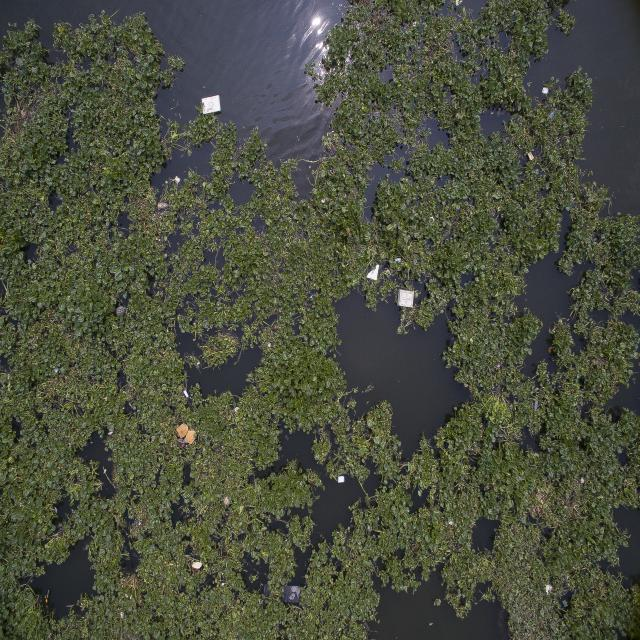debris: (268, 585, 302, 603), (200, 94, 222, 118), (176, 421, 195, 445), (396, 288, 416, 308), (367, 263, 382, 280), (189, 558, 206, 571), (172, 172, 183, 188), (42, 588, 53, 604), (113, 304, 126, 317), (220, 494, 232, 506), (544, 581, 554, 595), (561, 598, 572, 610), (426, 213, 436, 226), (317, 195, 327, 207), (541, 83, 549, 96), (395, 255, 404, 266), (528, 149, 534, 163), (266, 341, 273, 351)
plastic: (334, 470, 346, 485), (182, 387, 192, 401), (532, 396, 540, 412), (548, 107, 556, 121), (98, 464, 108, 475), (309, 292, 320, 300), (195, 360, 202, 366)
